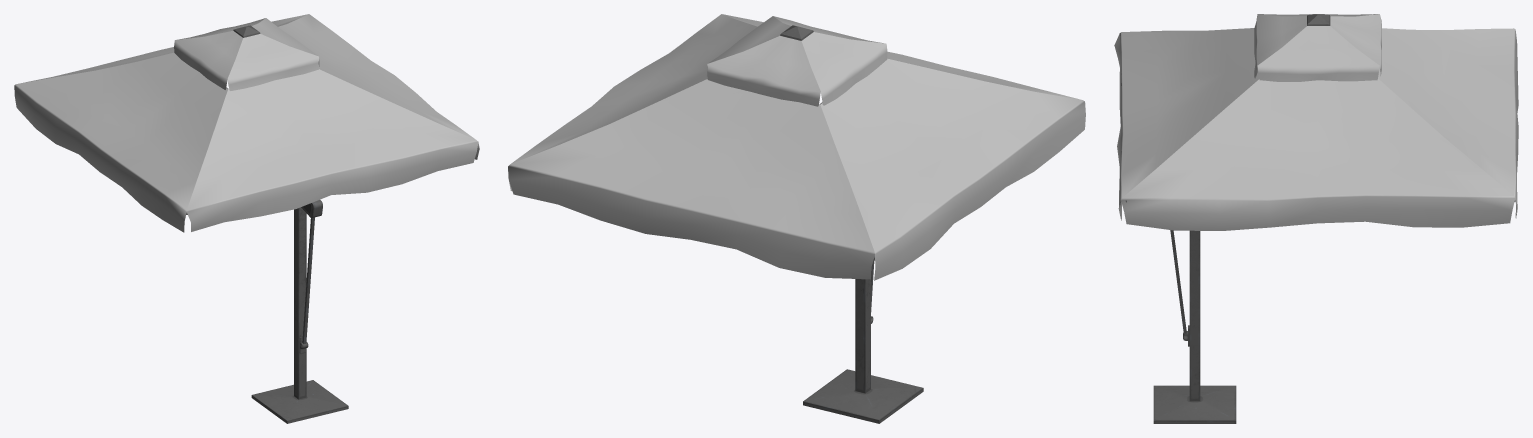
Rendered from MB_Parasol_Pack_01.fbx.
3 renders of one model, left to right at view 1: azimuth 30°, elevation 25°; view 2: azimuth 150°, elevation 25°; view 3: azimuth 270°, elevation 25°, orthographic. The views are drawn at different scales.
Parts seen in each view (by area): view 1: MB_Parasol_Pack_01_LOD0; view 2: MB_Parasol_Pack_01_LOD0; view 3: MB_Parasol_Pack_01_LOD0.
Part boxes in pixels (x1,y1,x2,y2): MB_Parasol_Pack_01_LOD0: (14,14,479,423); MB_Parasol_Pack_01_LOD0: (508,14,1085,423); MB_Parasol_Pack_01_LOD0: (1114,14,1518,423).
Size of what is drawn, in the model's own units: 362 by 386 by 361.
